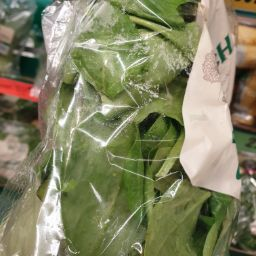Spinach: (86, 21, 172, 256)
